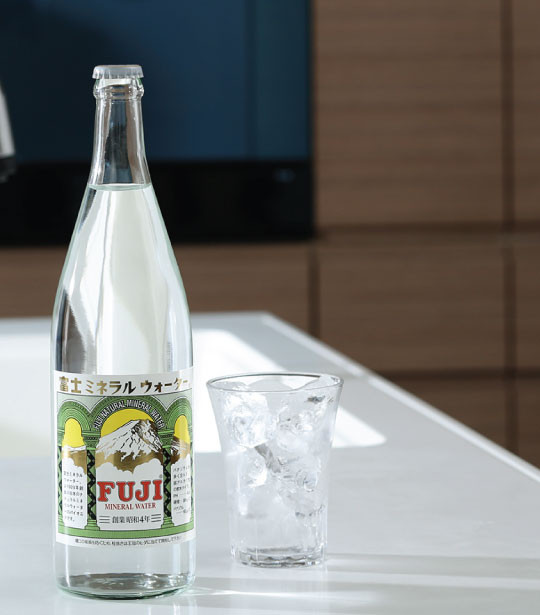glass_bottle: (48, 59, 211, 603)
